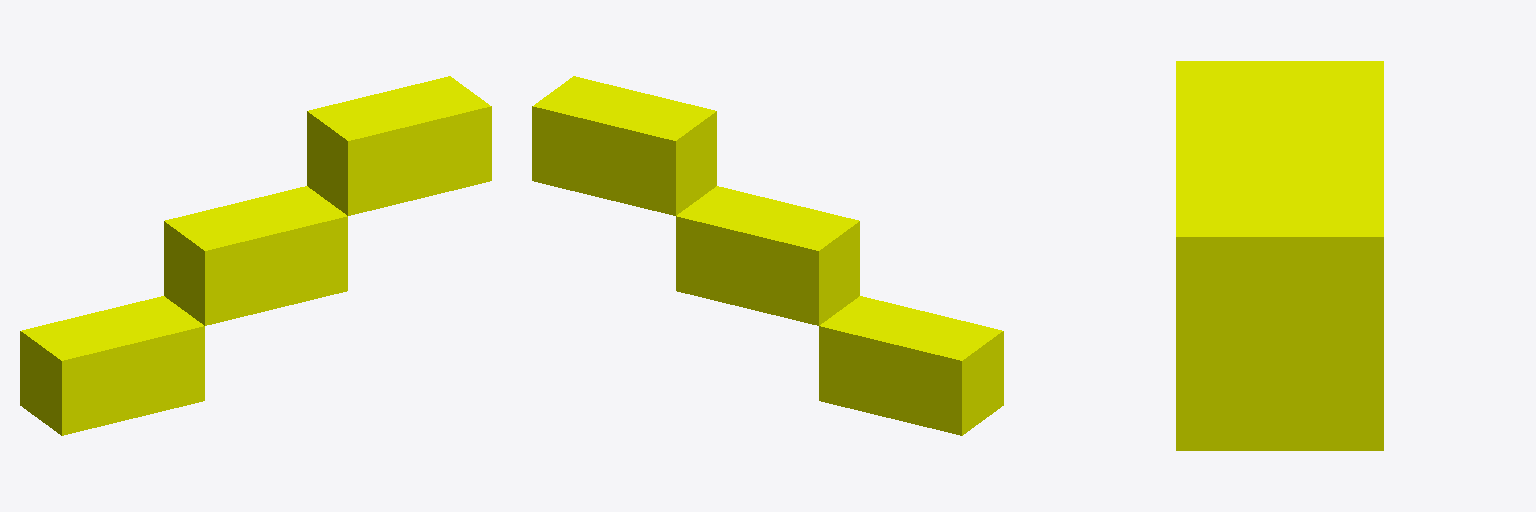
The robot description file, URDF, robot "parallelepiped":
<?xml version="1.0" encoding="utf-8"?>
<!-- This URDF was automatically created by SolidWorks to URDF Exporter! Originally created by [author] ([email redacted])
     Commit Version: 1.5.1-0-g916b5db  Build Version: 1.5.7152.31018
     For more information, please see http://wiki.ros.org/sw_urdf_exporter -->
<robot
  name="parallelepiped">
  <link
    name="base_link">
    <inertial>
      <origin
        xyz="0 0 0.125"
        rpy="0 0 0" />
      <mass
        value="1" />
      <inertia
        ixx="0.01041666"
        ixy="0"
        ixz="0"
        iyy="0.02604166"
        iyz="0"
        izz="0.02604166" />
    </inertial>
    <visual>
      <origin
        xyz="0 0 0.125"
        rpy="0 0 0" />
      <geometry>
        <mesh
          filename="package://robots/planar_2DOF/meshes/parallelepiped.stl" />
      </geometry>
      <material
        name="">
        <color
          rgba="0.96078 1 0 1" />
      </material>
    </visual>
    <collision>
      <origin
        xyz="0 0 0.125"
        rpy="0 0 0" />
      <geometry>
        <mesh
          filename="package://robots/planar_2DOF/meshes/parallelepiped.stl" />
      </geometry>
    </collision>
  </link>
  <link
    name="link1">
    <inertial>
      <origin
        xyz="0.25 0 0.125"
        rpy="0 0 0" />
      <mass
        value="1" />
      <inertia
        ixx="0.01041666"
        ixy="0"
        ixz="0"
        iyy="0.02604166"
        iyz="0"
        izz="0.02604166" />
    </inertial>
    <visual>
      <origin
        xyz="0.25 0 0.125"
        rpy="0 0 0" />
      <geometry>
        <mesh
          filename="package://robots/planar_2DOF/meshes/parallelepiped.stl" />
      </geometry>
      <material
        name="">
        <color
          rgba="0.96078 1 0 1" />
      </material>
    </visual>
    <collision>
      <origin
        xyz="0.25 0 0.125"
        rpy="0 0 0" />
      <geometry>
        <mesh
          filename="package://robots/planar_2DOF/meshes/parallelepiped.stl" />
      </geometry>
    </collision>
  </link>
<joint
    name="joint1"
    type="revolute">
    <origin
      xyz="0.25 0 0.25"
      rpy="0 0 0" />
    <parent
      link="base_link" />
    <child
      link="link1" />
    <axis
      xyz="0 1 0" />
    <limit
      lower="0"
      upper="0"
      effort="0"
      velocity="0" />
    <dynamics
      damping="0.5" 
      friction = "0.5" />
  </joint>
  <link
    name="link2">
    <inertial>
      <origin
        xyz="0.25 0 0.125"
        rpy="0 0 0" />
      <mass
        value="1" />
      <inertia
        ixx="0.01041666"
        ixy="0"
        ixz="0"
        iyy="0.02604166"
        iyz="0"
        izz="0.02604166" />
    </inertial>
    <visual>
      <origin
        xyz="0.25 0 0.125"
        rpy="0 0 0" />
      <geometry>
        <mesh
          filename="package://robots/planar_2DOF/meshes/parallelepiped.stl" />
      </geometry>
      <material
        name="">
        <color
          rgba="0.96078 1 0 1" />
      </material>
    </visual>
    <collision>
      <origin
        xyz="0.25 0 0.125"
        rpy="0 0 0" />
      <geometry>
        <mesh
          filename="package://robots/planar_2DOF/meshes/parallelepiped.stl" />
      </geometry>
    </collision>
  </link>
<joint
    name="joint2"
    type="revolute">
    <origin
      xyz="0.5 0 0.25"
      rpy="0 0 0" />
    <parent
      link="link1" />
    <child
      link="link2" />
    <axis
      xyz="0 1 0" />
    <limit
      lower="0"
      upper="0"
      effort="0"
      velocity="0" />
    <dynamics
      damping="0.5" 
      friction="0.5"/>
  </joint>
</robot>

--- Render facts (derived) ---
Views: 3 orthographic renders of the robot side by side, from view 1: azimuth 30°, elevation 25°; view 2: azimuth 150°, elevation 25°; view 3: azimuth 270°, elevation 25°.
Robot: parallelepiped — 3 links, 2 joints (2 revolute); root link base_link; default pose: all joints at 0.
Visible links, largest first — view 1: base_link, link2, link1; view 2: base_link, link2, link1; view 3: link2, base_link, link1.
Link boxes in pixels (box(x1,y1,x2,y2)): base_link: box(20, 296, 204, 435); link2: box(307, 76, 491, 215); link1: box(164, 186, 347, 325); base_link: box(819, 296, 1003, 435); link2: box(532, 76, 716, 215); link1: box(676, 186, 859, 325); link2: box(1176, 61, 1383, 425); base_link: box(1176, 438, 1383, 450); link1: box(1176, 426, 1383, 437).
Bounding box of the posed robot: 1.5 × 0.25 × 0.75 m (x, y, z).
3 mesh visuals loaded from 1 distinct referenced files (1 binary STL).